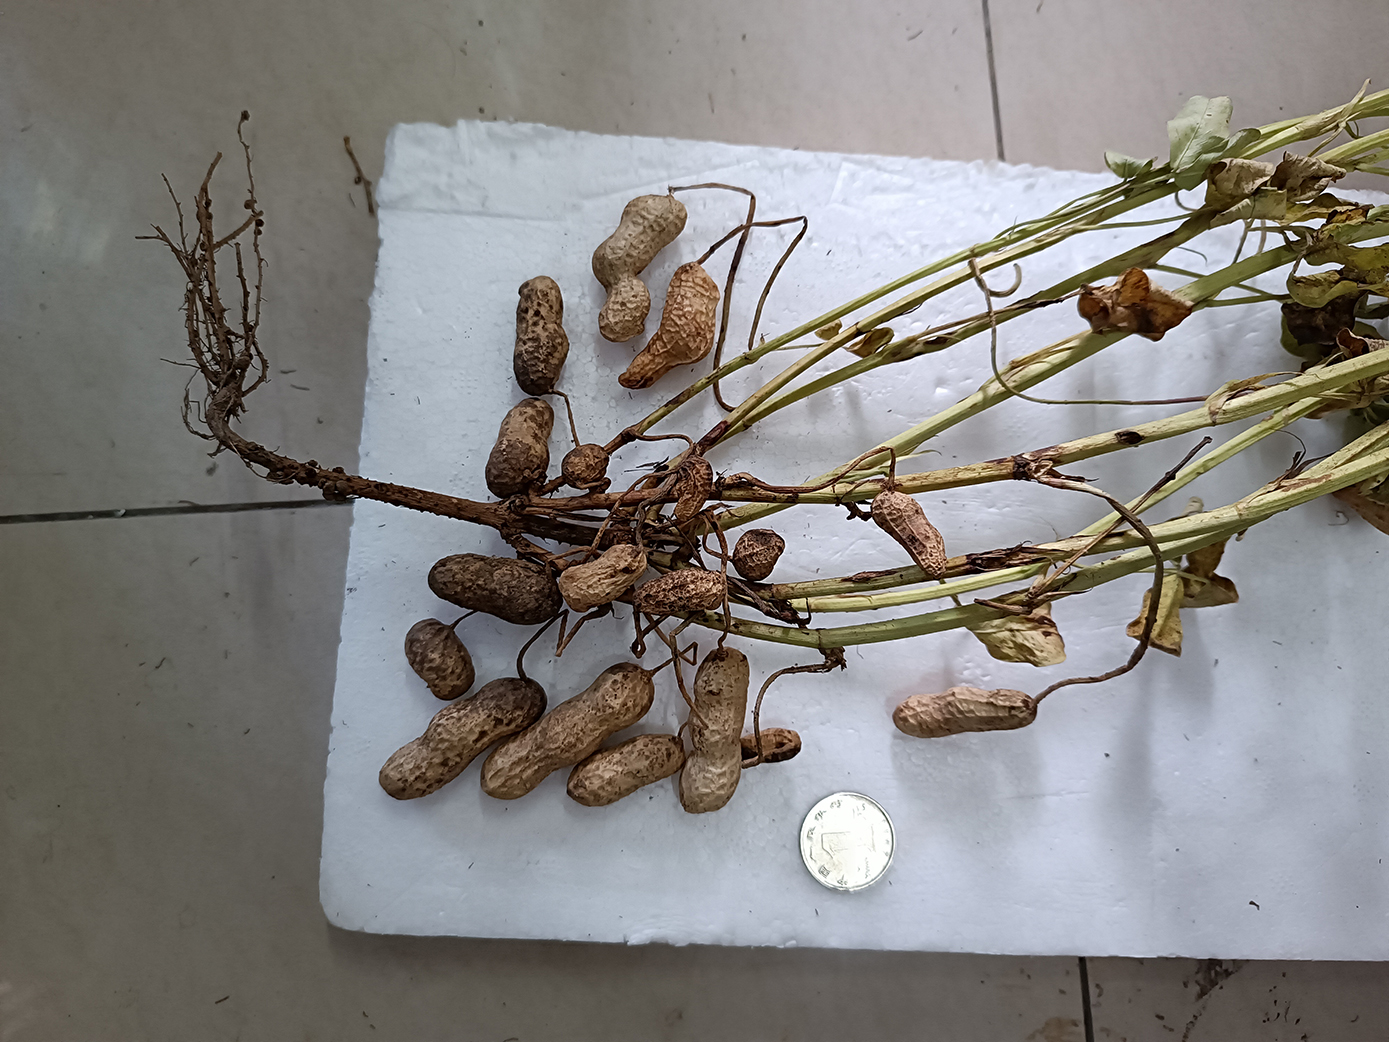h: (482, 663, 655, 800), (377, 676, 549, 799), (592, 193, 688, 344), (616, 262, 719, 391), (679, 645, 748, 817), (564, 734, 685, 806), (892, 686, 1039, 739), (484, 396, 554, 501), (871, 491, 947, 580), (513, 275, 567, 396), (556, 544, 647, 612), (633, 567, 727, 616), (733, 528, 785, 582), (675, 456, 711, 525), (560, 443, 610, 493), (743, 728, 801, 766)
l: (427, 553, 562, 625), (403, 620, 478, 702)
